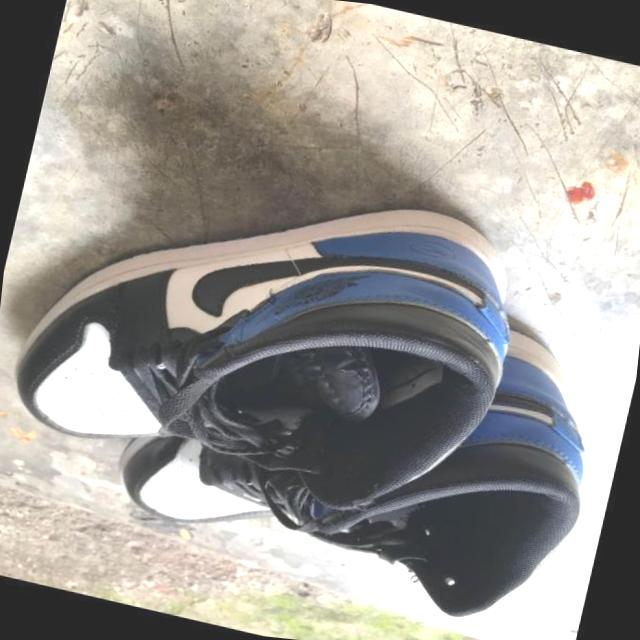nike_fake_jordan: (0, 117, 547, 545), (91, 239, 623, 640)
